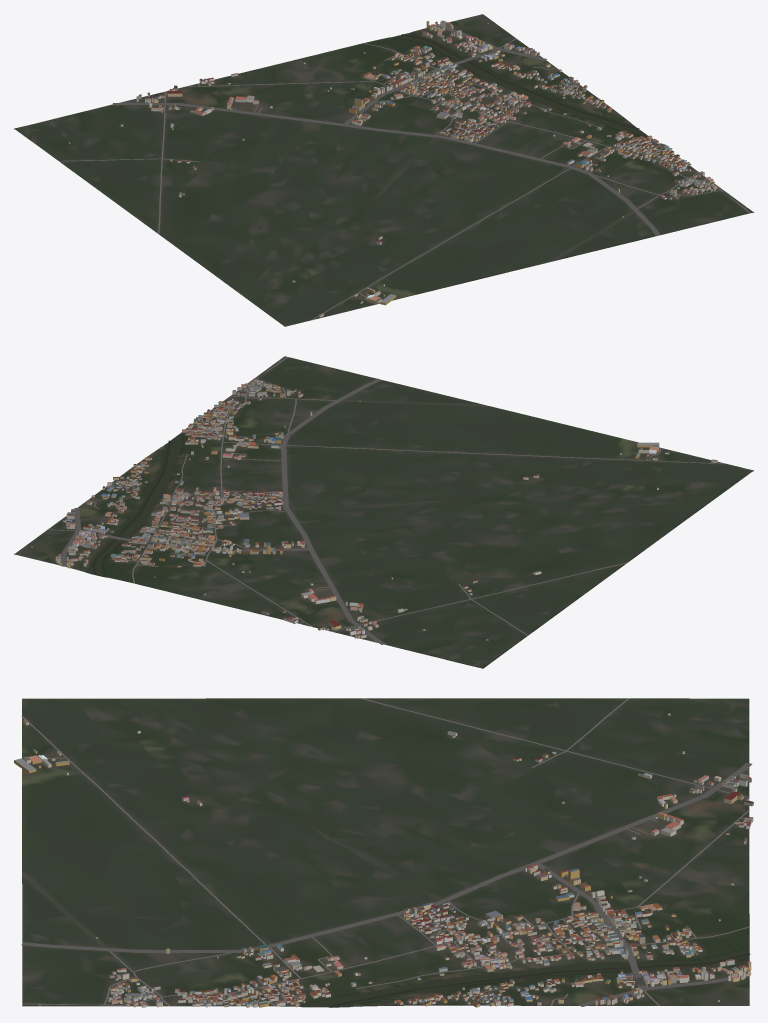
3 views of the same model, one above another, from view 1: azimuth 30°, elevation 25°; view 2: azimuth 150°, elevation 25°; view 3: azimuth 270°, elevation 25° (orthographic). The views are drawn at different scales.
Visible parts, largest first — view 1: ground, buildings, roads, water; view 2: ground, buildings, roads, water; view 3: ground, buildings, roads, water.
Boxes of the visible parts, <box> form: ground: <box>14,14,753,326</box>; buildings: <box>68,20,717,317</box>; roads: <box>59,25,750,320</box>; water: <box>392,33,647,136</box>; ground: <box>14,356,753,668</box>; buildings: <box>31,379,717,640</box>; roads: <box>47,357,726,644</box>; water: <box>89,433,182,576</box>; ground: <box>22,698,749,1007</box>; buildings: <box>14,713,753,1007</box>; roads: <box>21,698,752,1006</box>; water: <box>304,947,750,1007</box>.
Bounding box in the file's own units: 1411 × 30.58 × 1426.
